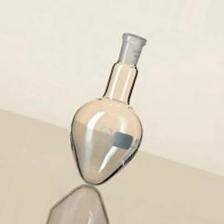Pear shaped flask: (68, 26, 148, 181)
